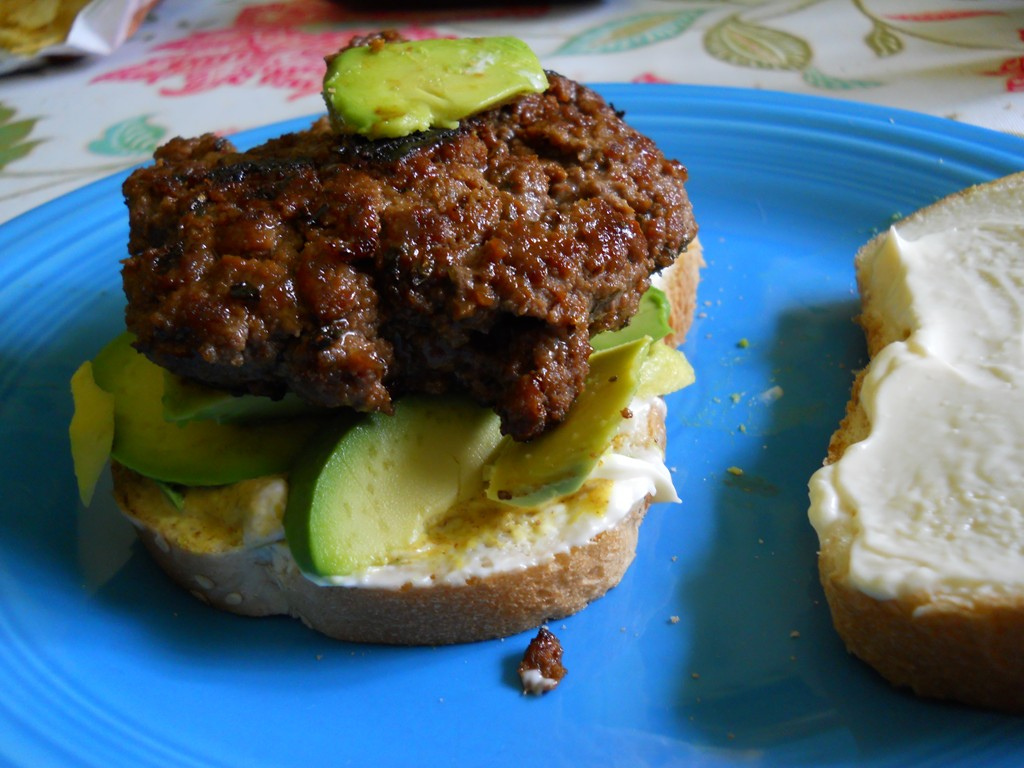meatballs: (126, 112, 657, 391)
slice of bread: (836, 118, 1024, 706), (64, 487, 679, 649)
